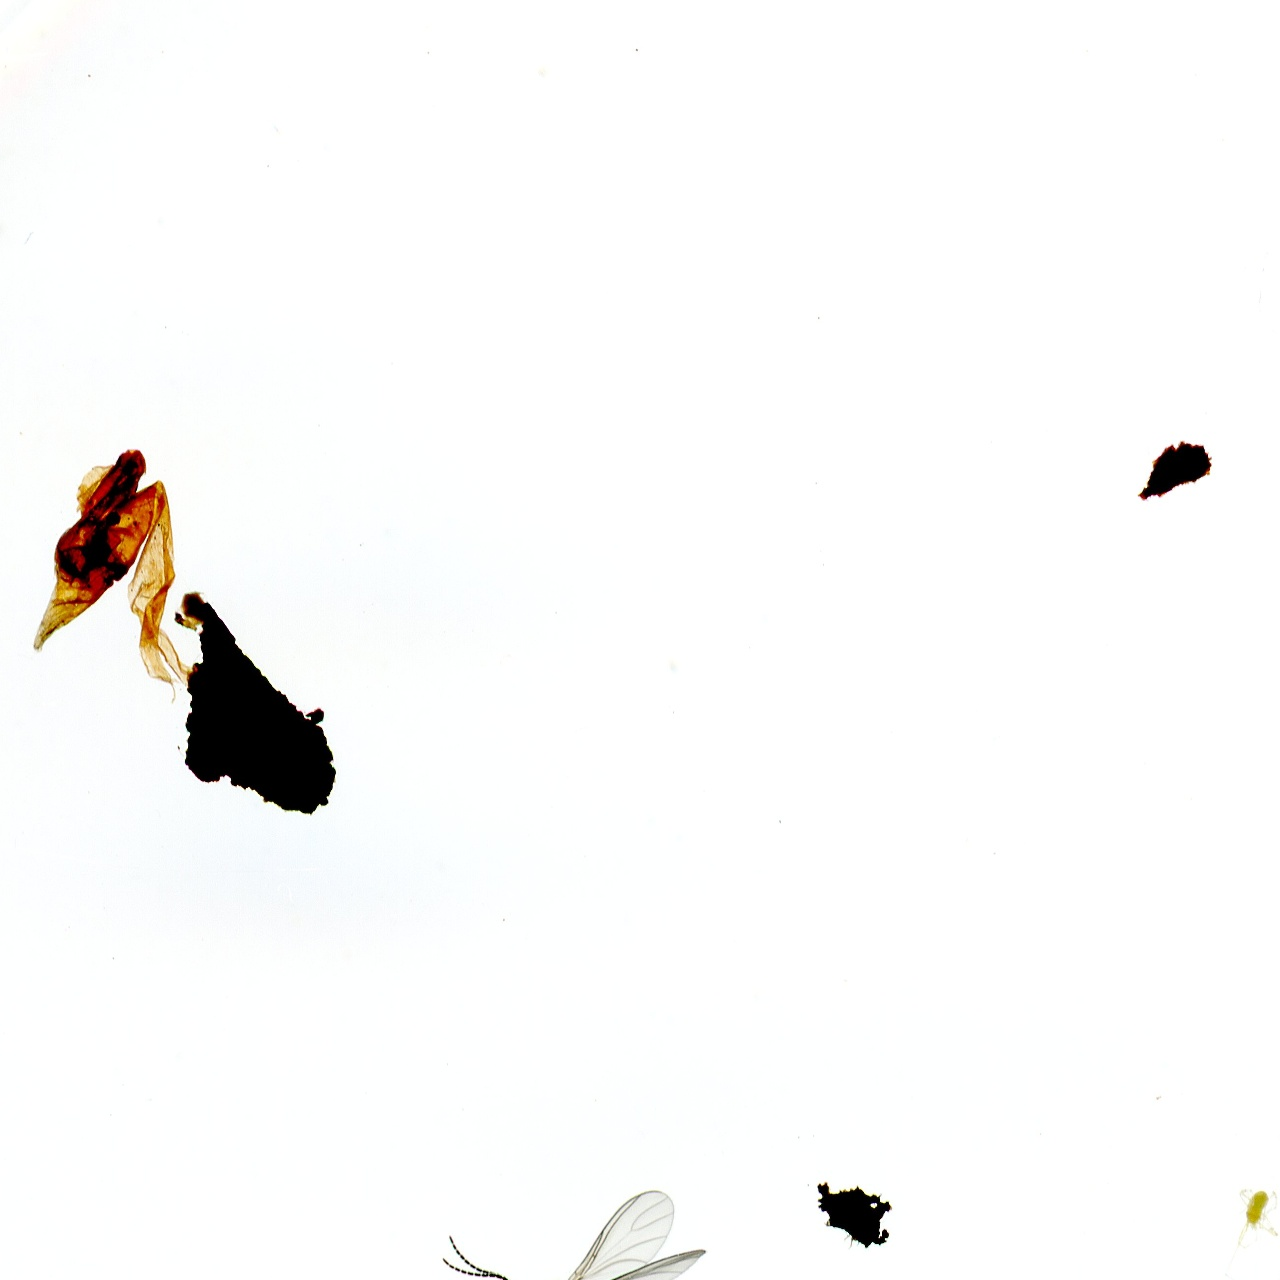arthropod: (421, 1153, 751, 1280), (1220, 1184, 1280, 1280)
